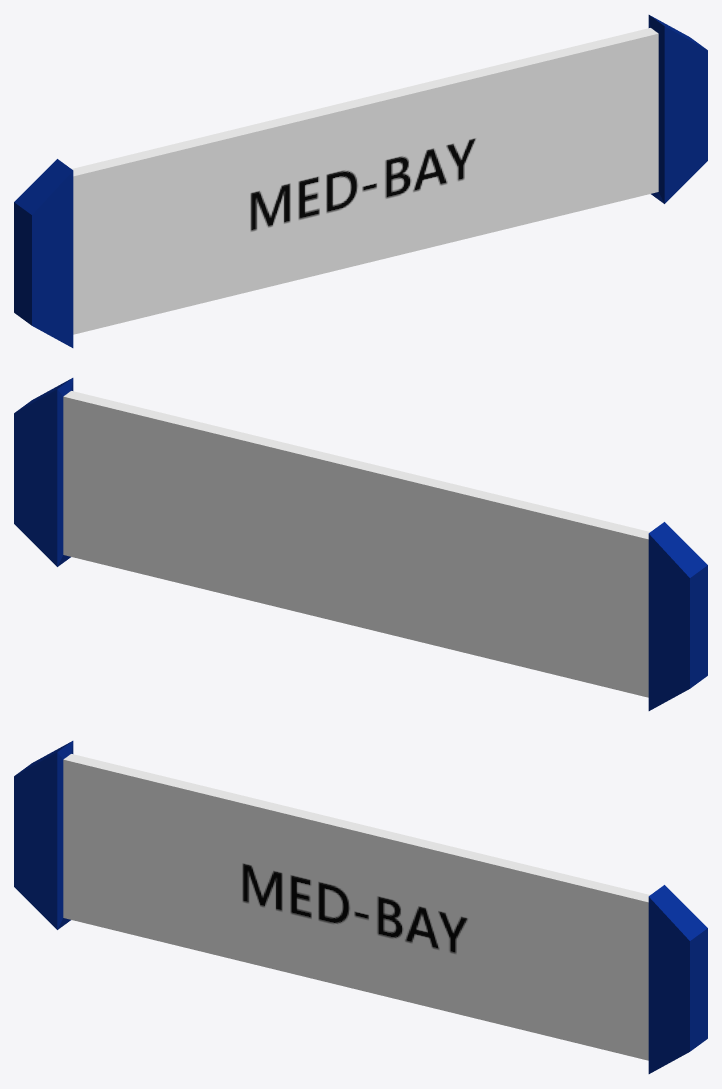
The model's file is wallSign_medbay.fbx.
3 renders of one model, top to bottom at view 1: azimuth 30°, elevation 25°; view 2: azimuth 150°, elevation 25°; view 3: azimuth 330°, elevation 25°, orthographic.
Visible parts, largest first — view 1: Cube; view 2: Cube; view 3: Cube.
Part boxes in pixels (x1=…): Cube: x1=14, y1=15, x2=707, y2=347; Cube: x1=14, y1=378, x2=707, y2=710; Cube: x1=14, y1=741, x2=707, y2=1073.
Bounding box in the file's own units: 178 × 44.83 × 8.21.
